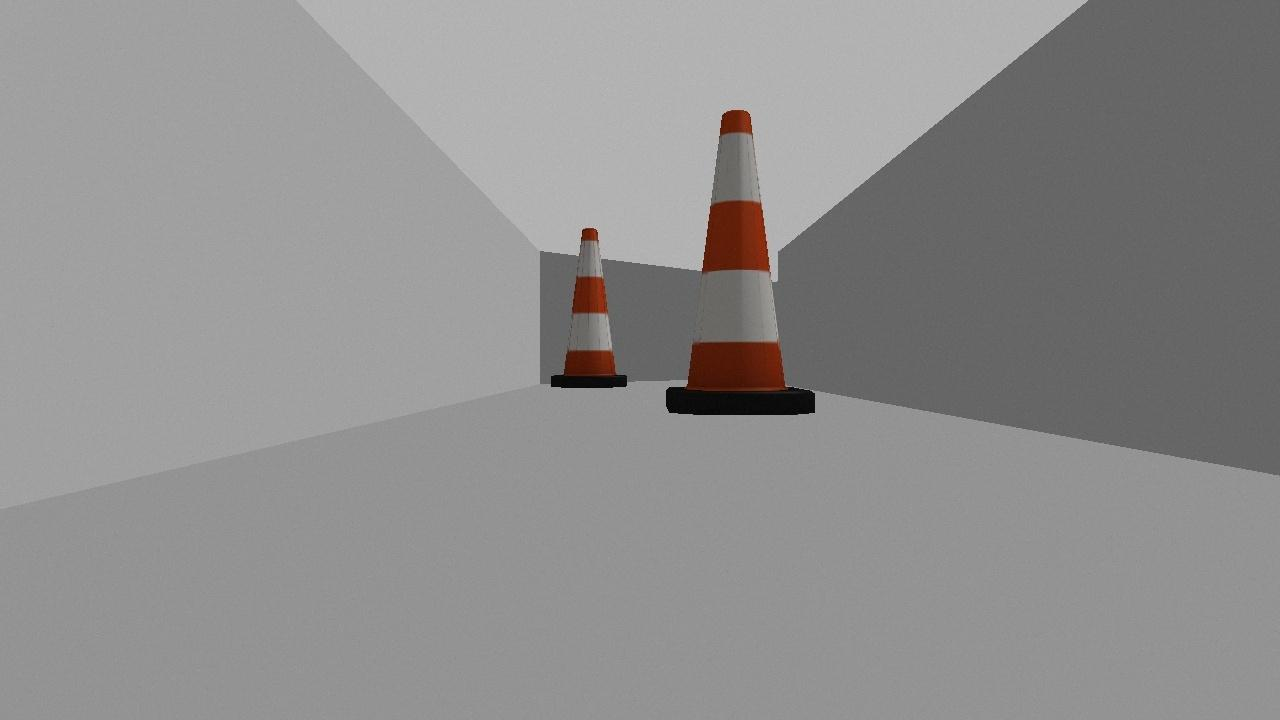cone_barrel: (653, 106, 821, 422), (544, 222, 632, 392)
